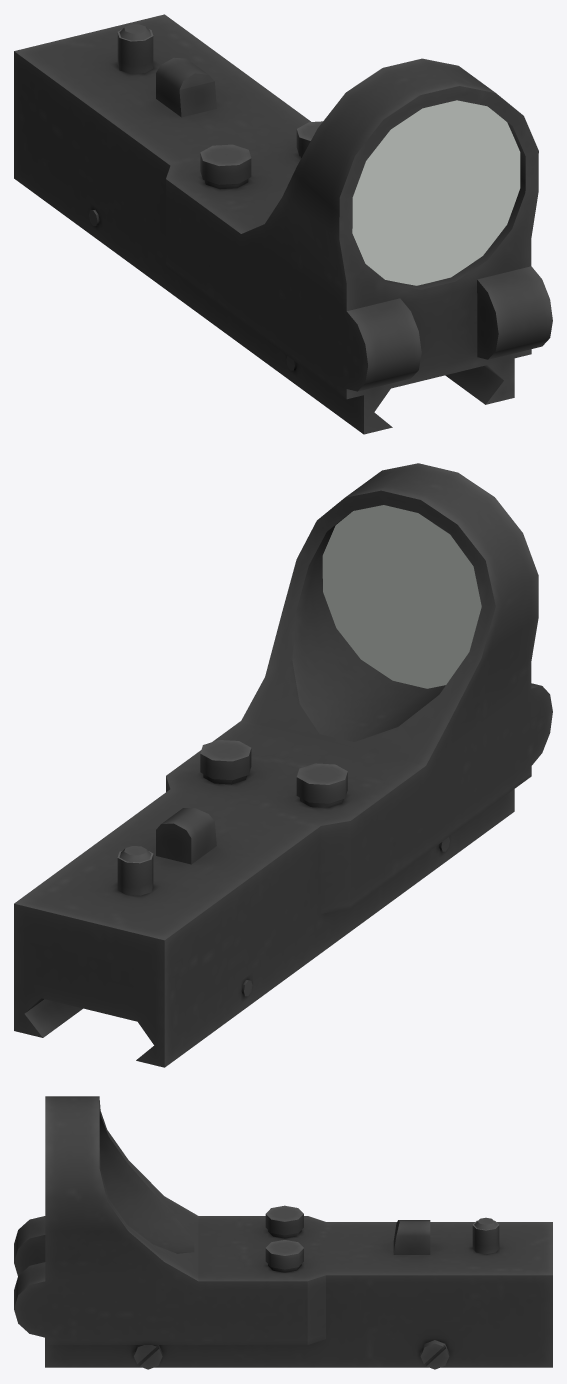
File: red_dot_sight_1.fbx
The picture shows the model from 3 angles, top to bottom: view 1: azimuth 30°, elevation 25°; view 2: azimuth 150°, elevation 25°; view 3: azimuth 270°, elevation 25°; orthographic projection. The views are drawn at different scales.
Parts seen in each view (by area): view 1: Body.002, Body.001; view 2: Body.002, Body.001; view 3: Body.002.
Part boxes in pixels (x1,y1,x2,y2): Body.002: (14, 14, 552, 434); Body.001: (352, 100, 520, 285); Body.002: (14, 463, 552, 1067); Body.001: (322, 505, 481, 688); Body.002: (14, 1096, 552, 1369).
Bounding box in the file's own units: 11.26 × 17.56 × 36.3.
